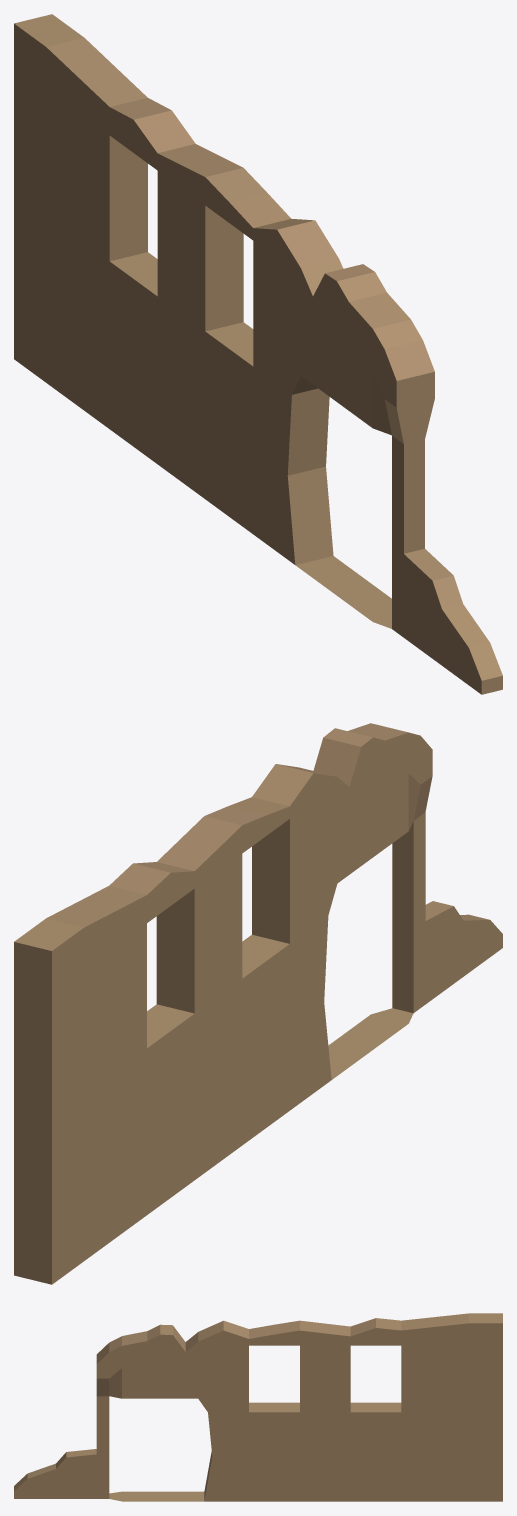
3 renders of one model, top to bottom at view 1: azimuth 30°, elevation 25°; view 2: azimuth 150°, elevation 25°; view 3: azimuth 270°, elevation 25°, orthographic. The views are drawn at different scales.
Parts seen in each view (by area): view 1: Cube.051; view 2: Cube.051; view 3: Cube.051.
Boxes of the visible parts, bbox=[...] form: Cube.051: bbox=[14, 14, 502, 694]; Cube.051: bbox=[14, 723, 502, 1284]; Cube.051: bbox=[14, 1313, 502, 1501].
Size of the model in its own units: 0.2039 by 1.7 by 4.24.
